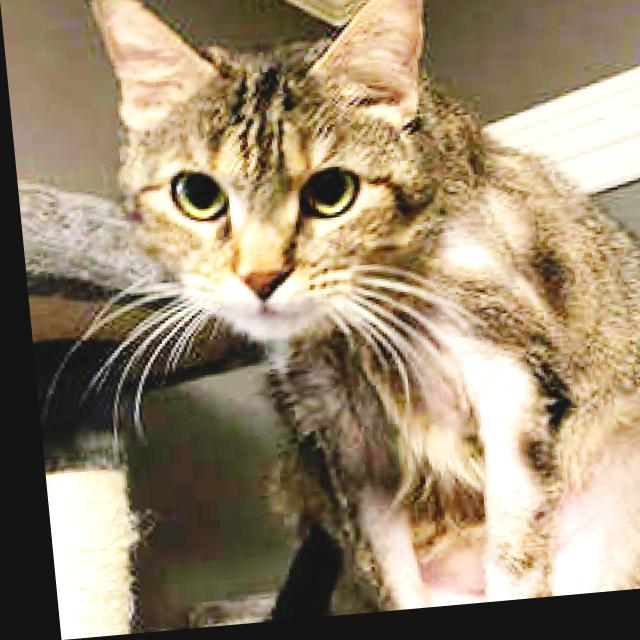hairloss: (468, 353, 553, 602), (370, 516, 429, 611), (448, 247, 488, 279)
